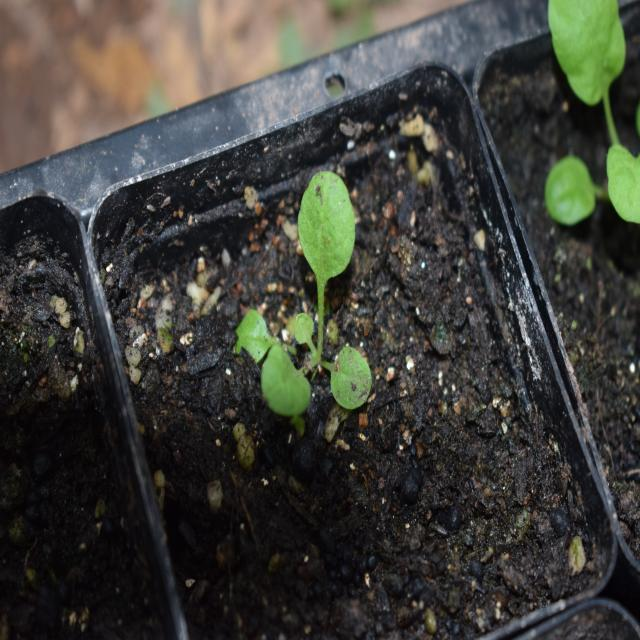Shepherd_Purse: (235, 164, 389, 432)
